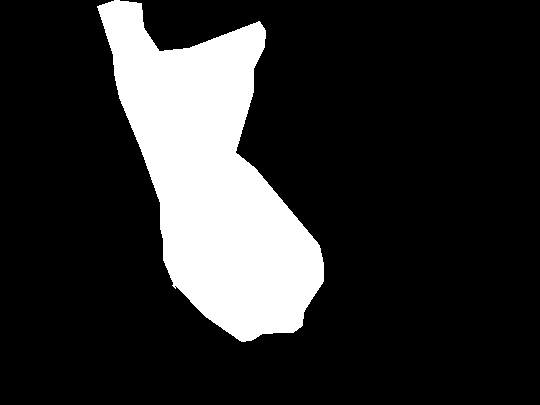Fire: (153, 198, 318, 339)
